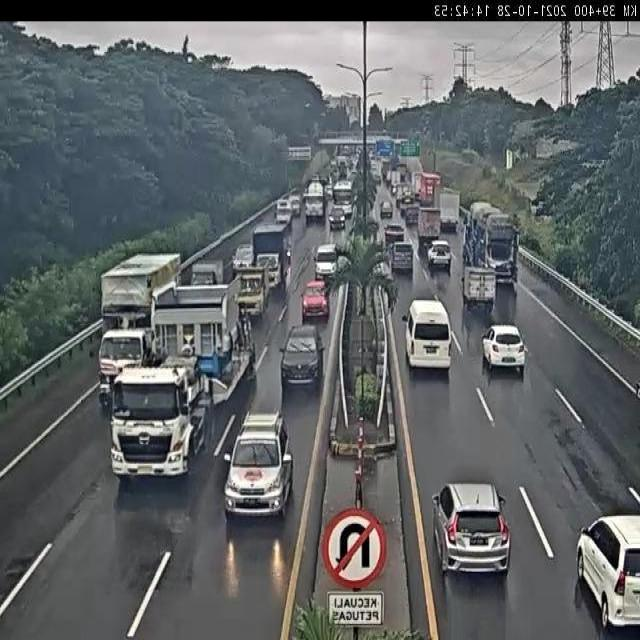Car: (223, 410, 295, 518), (432, 481, 512, 575), (280, 321, 326, 391), (482, 323, 526, 372), (301, 279, 330, 322), (426, 240, 452, 271), (232, 244, 255, 273), (384, 223, 405, 247), (328, 205, 346, 230), (379, 200, 393, 219)
Truck: (106, 278, 255, 480), (99, 251, 182, 405), (464, 202, 519, 297), (252, 220, 294, 294), (462, 265, 496, 312), (438, 190, 460, 236), (304, 179, 326, 222), (416, 172, 441, 208)
Van: (403, 298, 452, 371), (389, 240, 414, 274)
